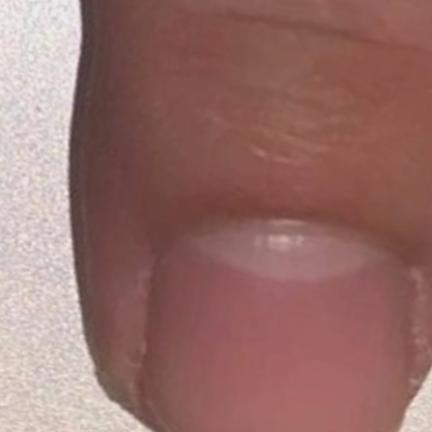Nail: (143, 228, 414, 429)
